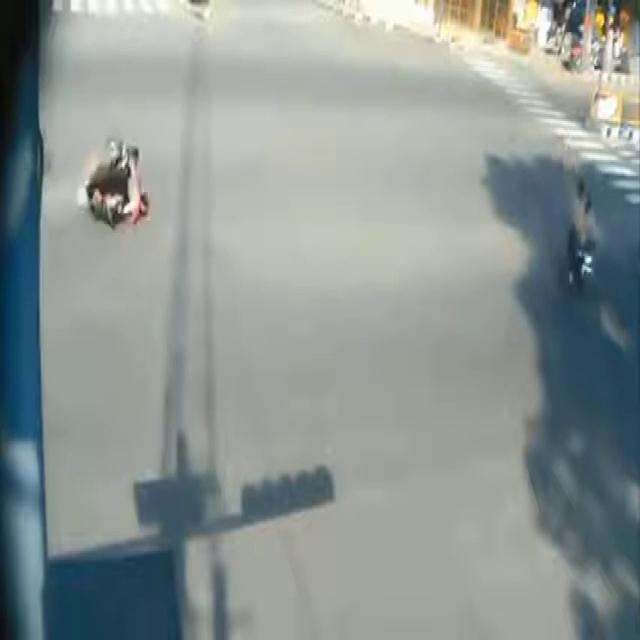accident: (75, 115, 168, 236)
